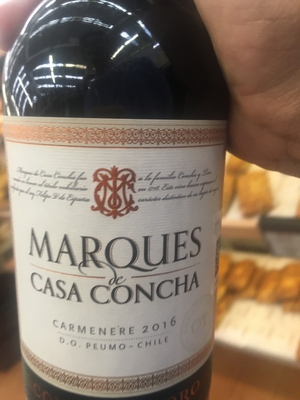marques de casa concha carmenere: (5, 24, 237, 398)
